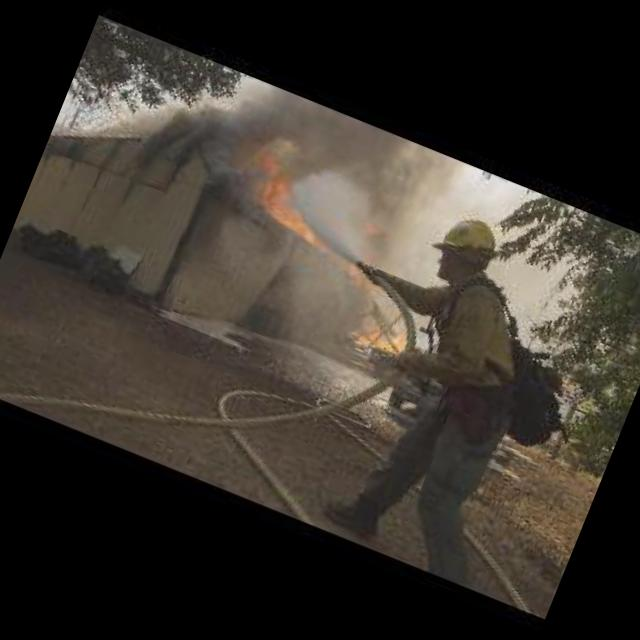fire: (232, 144, 344, 240), (354, 303, 418, 360), (49, 130, 58, 138)
smoke: (186, 64, 462, 230)
